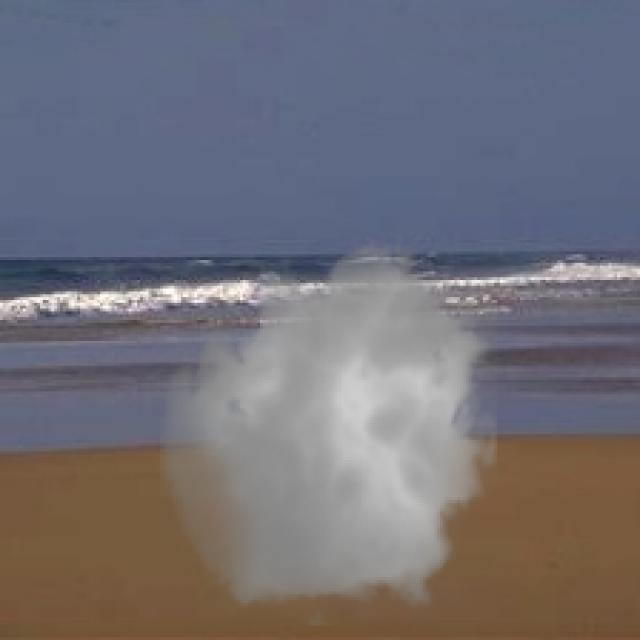smoke: (148, 228, 512, 626)
